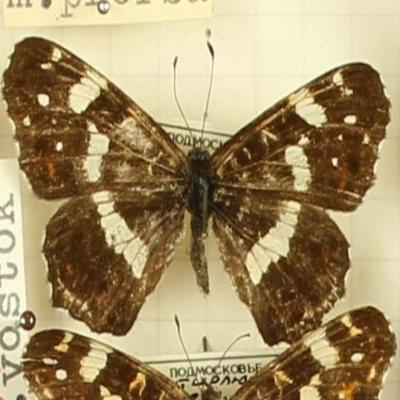natural_science_collection: (2, 37, 391, 347)
